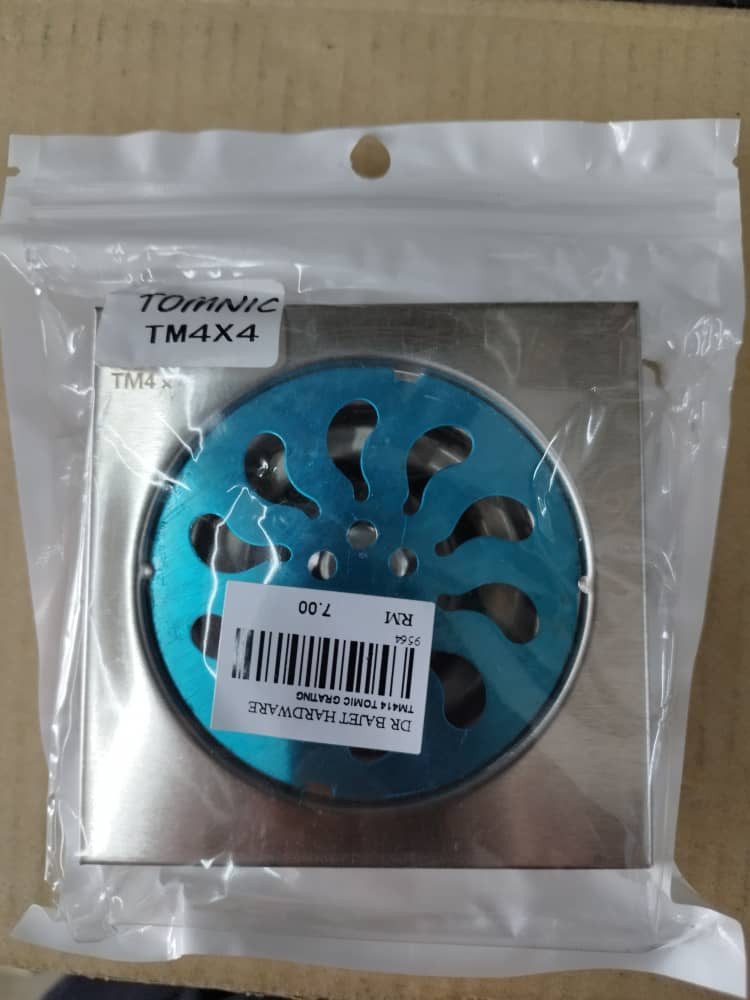sku_water_trap: (87, 299, 652, 867)
